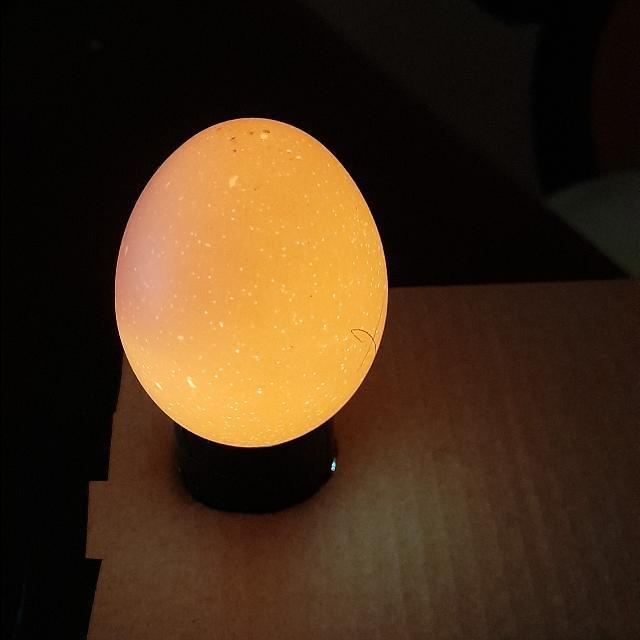A - Good: (102, 108, 399, 468)
